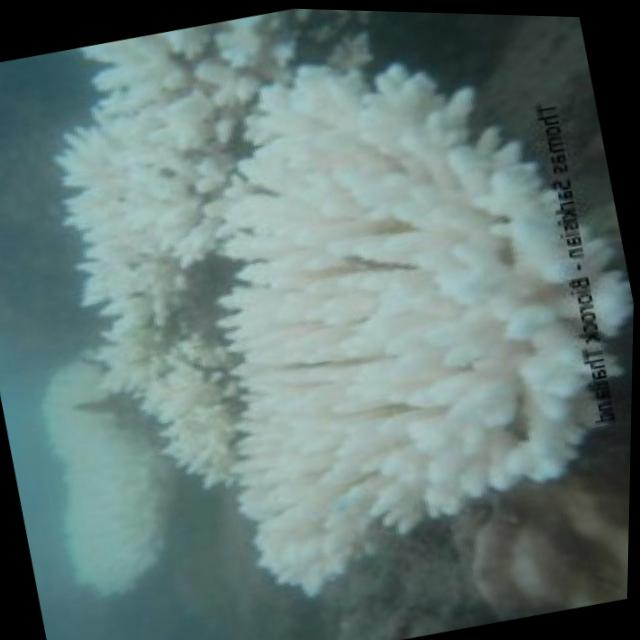Bleached Coral: (50, 1, 640, 564), (0, 269, 197, 627)
